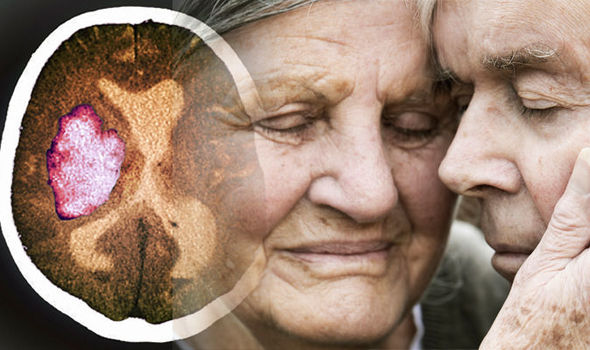stroke: (242, 48, 430, 320)
